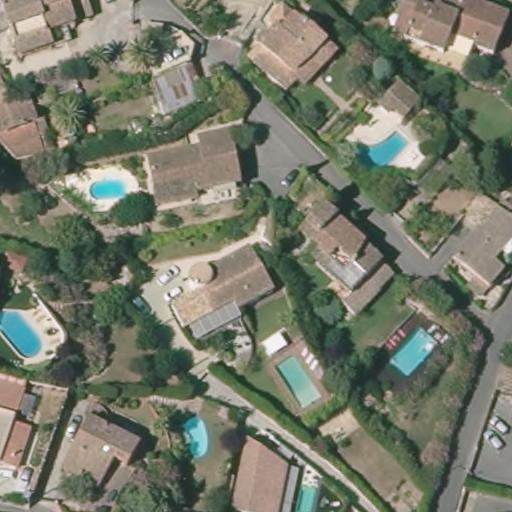pool: (271, 343, 325, 415), (384, 326, 438, 379), (0, 303, 45, 363), (343, 129, 413, 167), (178, 414, 211, 460), (86, 172, 126, 202), (292, 479, 321, 511)
